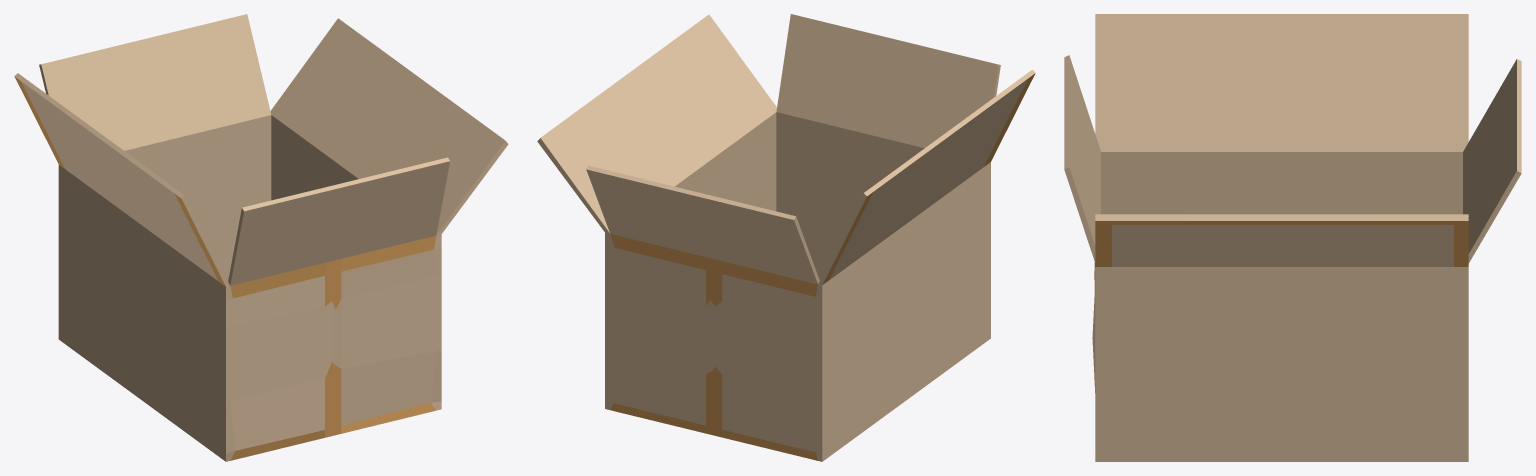
3 renders of one model, left to right at view 1: azimuth 30°, elevation 25°; view 2: azimuth 150°, elevation 25°; view 3: azimuth 270°, elevation 25°, orthographic. The views are drawn at different scales.
Parts seen in each view (by area): view 1: Box03; view 2: Box03; view 3: Box03.
Part boxes in pixels (x1,y1,x2,y2): Box03: (14,14,508,461); Box03: (537,14,1035,461); Box03: (1064,14,1521,461).
Bounding box in the file's own units: 0.6109 × 0.6638 × 0.4938.
